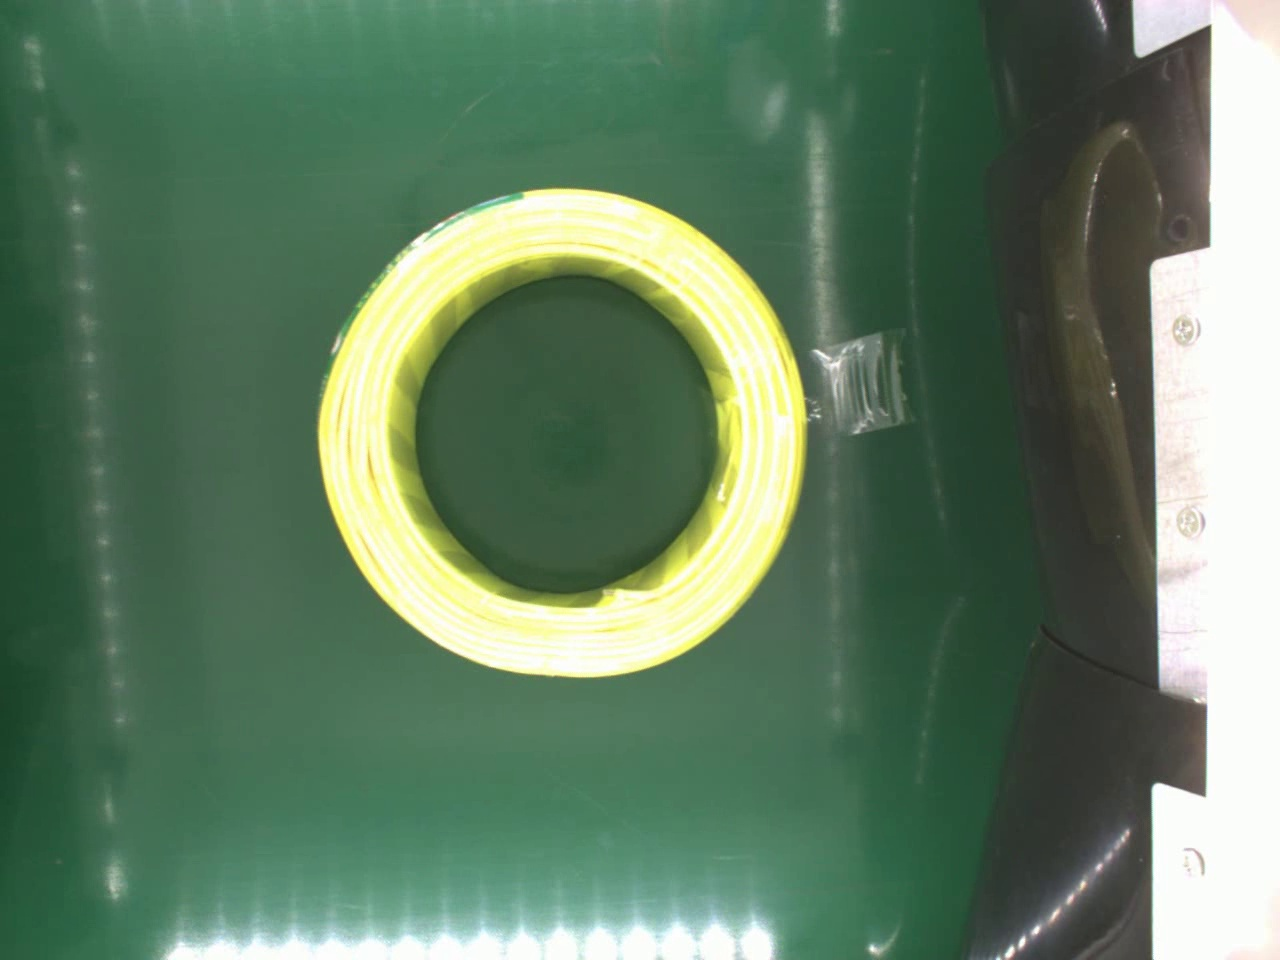yellow: (313, 181, 808, 684)
